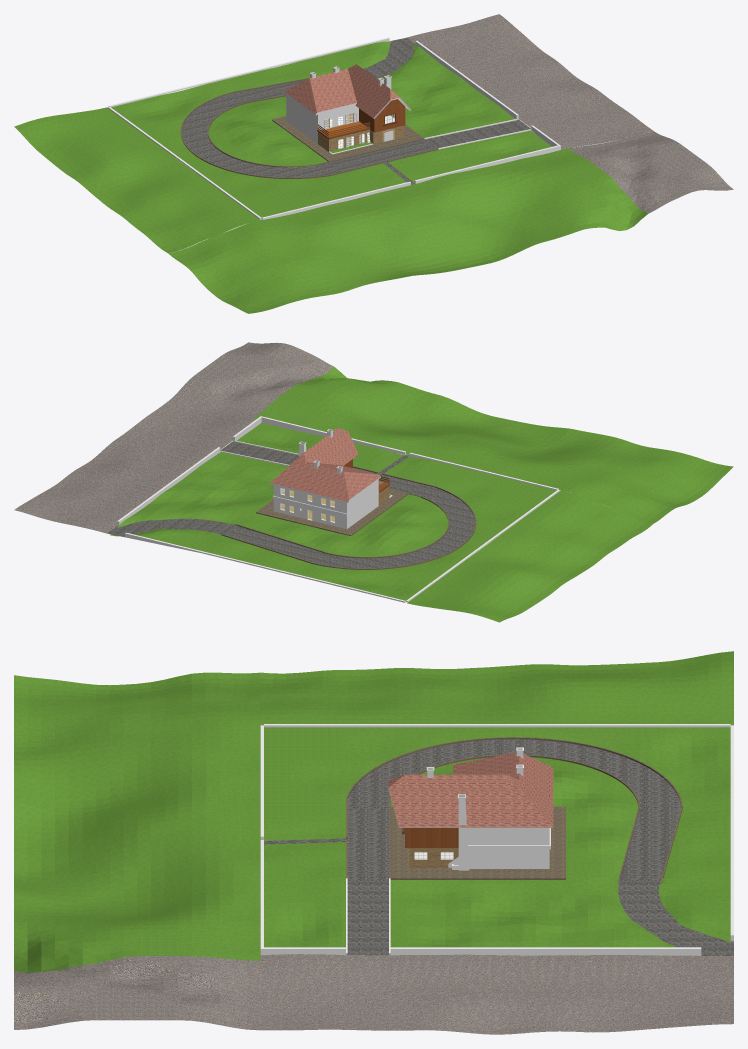
The picture shows the model from 3 angles, top to bottom: view 1: azimuth 30°, elevation 25°; view 2: azimuth 150°, elevation 25°; view 3: azimuth 270°, elevation 25°; orthographic projection. The views are drawn at different scales.
Visible parts, largest first — view 1: model; view 2: model; view 3: model.
Boxes of the visible parts, x1,y1,x2,y2 form: model: [14, 14, 733, 313]; model: [14, 342, 733, 622]; model: [14, 651, 733, 1034].
Size of the model in its own units: 105 by 26.01 by 87.57.
20 materials, 14 textured.
